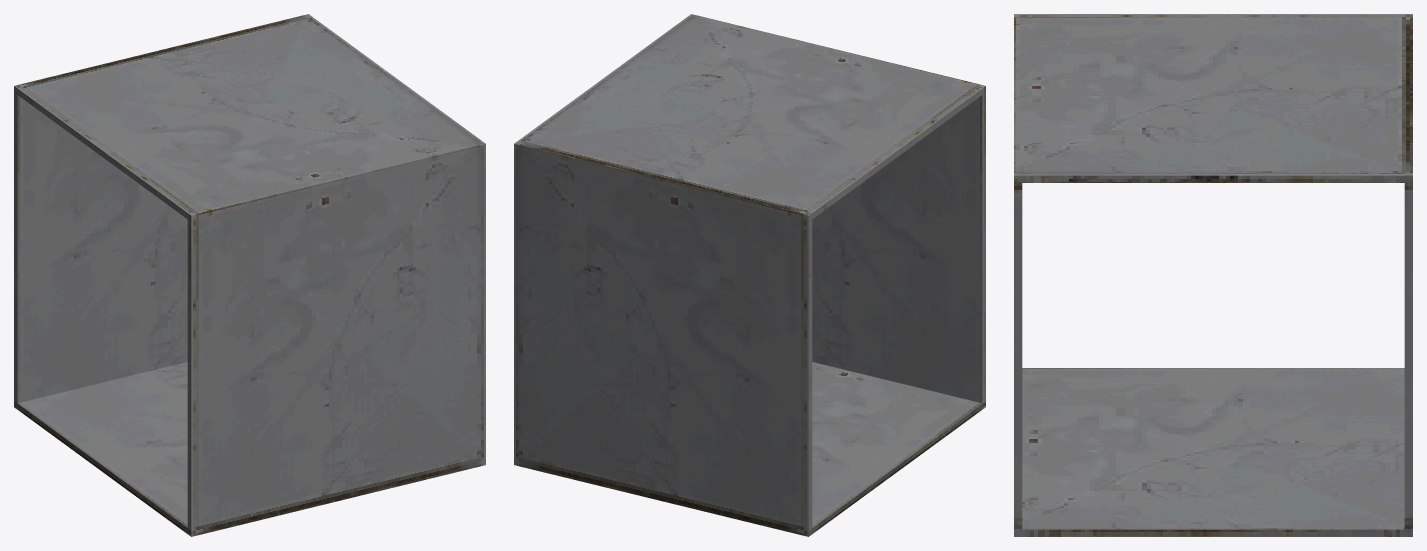
The model's file is duct.glb.
3 views of the same model, side by side, from view 1: azimuth 30°, elevation 25°; view 2: azimuth 150°, elevation 25°; view 3: azimuth 270°, elevation 25° (orthographic). The views are drawn at different scales.
Parts seen in each view (by area): view 1: duct; view 2: duct; view 3: duct.
Part boxes in pixels (left/top/right/bottom): duct: left=14, top=14, right=485, bottom=536; duct: left=514, top=14, right=985, bottom=536; duct: left=1014, top=14, right=1412, bottom=536.
Size of the model in its own units: 1 by 1.04 by 1.04.
Materials: 1 (1 with a texture image).
